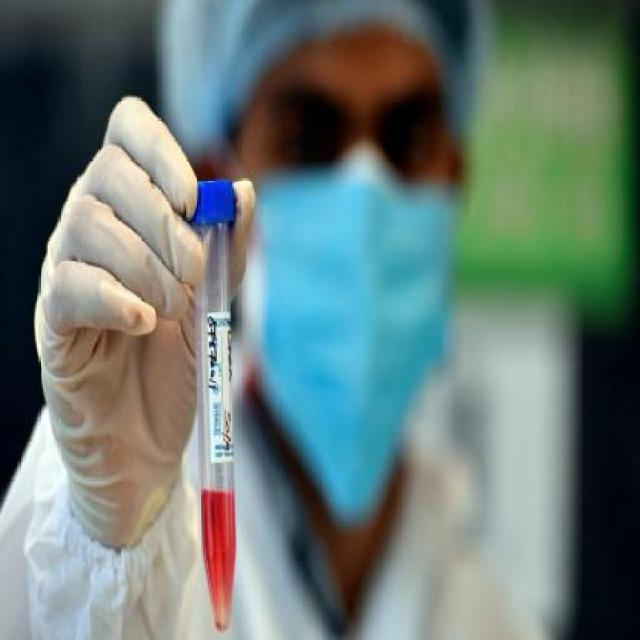Experimental-tube: (190, 177, 239, 631)
